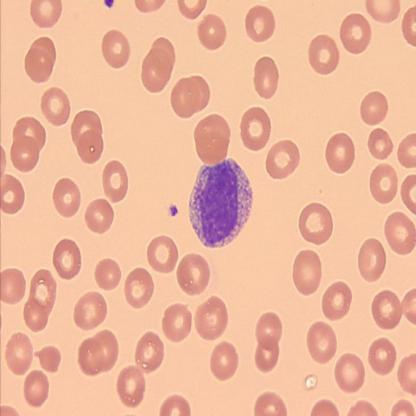Metamyelocyte: (188, 156, 254, 251)
